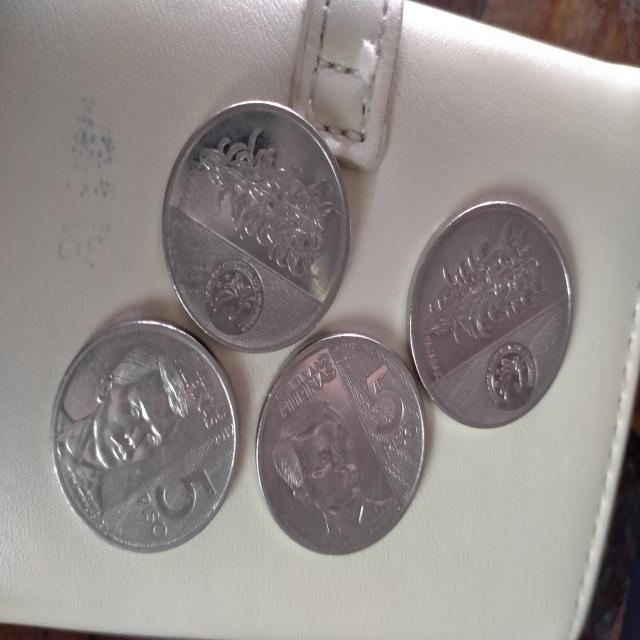5_New_Back: (195, 110, 346, 304), (418, 216, 556, 352)
5_New_Front: (353, 352, 422, 465), (138, 468, 222, 550)
